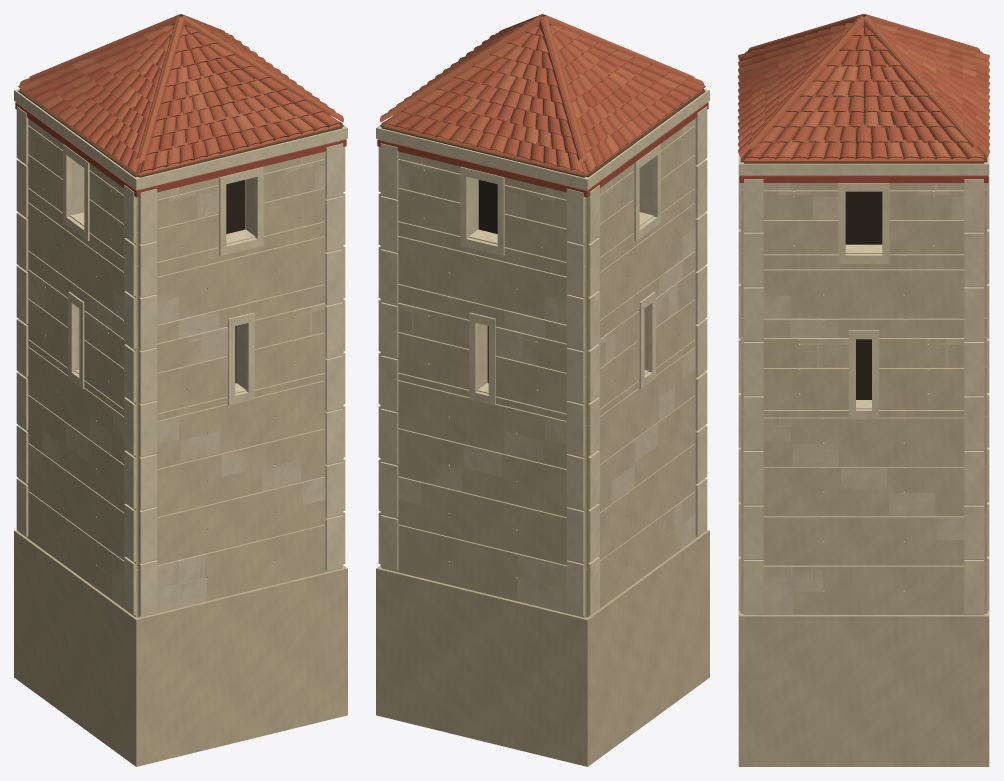
Rendered from verona_wall_tower.glb.
The picture shows the model from 3 angles, left to right: view 1: azimuth 30°, elevation 25°; view 2: azimuth 150°, elevation 25°; view 3: azimuth 270°, elevation 25°; orthographic projection. The views are drawn at different scales.
Visible parts, largest first — view 1: Travertine.001, Travertine.003, Limestone_trim.001, Limestone_trim.003, Tile_0.001, Limewash.001, Tile_1.001, Limewash.003, Tile_5.001, Tile_2.001, Pompeian_red.001, Pompeian_red.003 (+4 smaller); view 2: Travertine.001, Travertine.003, Limestone_trim.001, Limestone_trim.003, Limewash.001, Tile_0.001, Tile_1.001, Limewash.003, Tile_5.001, Tile_4.001, Tile_2.001, Pompeian_red.003 (+5 smaller); view 3: Travertine.001, Travertine.003, Limestone_trim.001, Limestone_trim.003, Tile_0.001, Tile_1.001, Limewash.001, Limewash.003, Tile_5.001, Interior_shadow.001, Tile_2.001, Tile_4.001 (+5 smaller).
Boxes of the visible parts, x1=… form: Travertine.001: x1=15, y1=120, x2=346, y2=764; Travertine.003: x1=14, y1=126, x2=347, y2=766; Limestone_trim.001: x1=14, y1=89, x2=346, y2=614; Limestone_trim.003: x1=14, y1=89, x2=347, y2=615; Tile_0.001: x1=26, y1=21, x2=343, y2=173; Limewash.001: x1=28, y1=131, x2=341, y2=617; Tile_1.001: x1=29, y1=14, x2=332, y2=163; Limewash.003: x1=24, y1=118, x2=342, y2=617; Tile_5.001: x1=19, y1=25, x2=314, y2=169; Tile_2.001: x1=21, y1=33, x2=340, y2=175; Pompeian_red.001: x1=15, y1=102, x2=346, y2=196; Pompeian_red.003: x1=15, y1=102, x2=346, y2=197; Travertine.001: x1=377, y1=126, x2=708, y2=764; Travertine.003: x1=376, y1=125, x2=709, y2=766; Limestone_trim.001: x1=377, y1=89, x2=709, y2=614; Limestone_trim.003: x1=376, y1=89, x2=709, y2=615; Limewash.001: x1=382, y1=118, x2=696, y2=617; Tile_0.001: x1=406, y1=20, x2=705, y2=166; Tile_1.001: x1=388, y1=14, x2=694, y2=163; Limewash.003: x1=380, y1=140, x2=705, y2=617; Tile_5.001: x1=380, y1=25, x2=679, y2=173; Tile_4.001: x1=395, y1=21, x2=682, y2=163; Tile_2.001: x1=381, y1=25, x2=702, y2=175; Pompeian_red.003: x1=377, y1=102, x2=708, y2=197; Travertine.001: x1=740, y1=175, x2=987, y2=765; Travertine.003: x1=738, y1=175, x2=989, y2=766; Limestone_trim.001: x1=739, y1=156, x2=988, y2=589; Limestone_trim.003: x1=738, y1=59, x2=989, y2=613; Tile_0.001: x1=738, y1=23, x2=989, y2=159; Tile_1.001: x1=738, y1=14, x2=989, y2=159; Limewash.001: x1=741, y1=175, x2=986, y2=614; Limewash.003: x1=741, y1=175, x2=986, y2=614; Tile_5.001: x1=738, y1=23, x2=989, y2=159; Interior_shadow.001: x1=845, y1=191, x2=882, y2=399; Tile_2.001: x1=738, y1=29, x2=989, y2=160; Tile_4.001: x1=738, y1=27, x2=989, y2=148.
Size of the model in its own units: 3.82 by 11.69 by 3.82.
12 materials, 6 textured.
